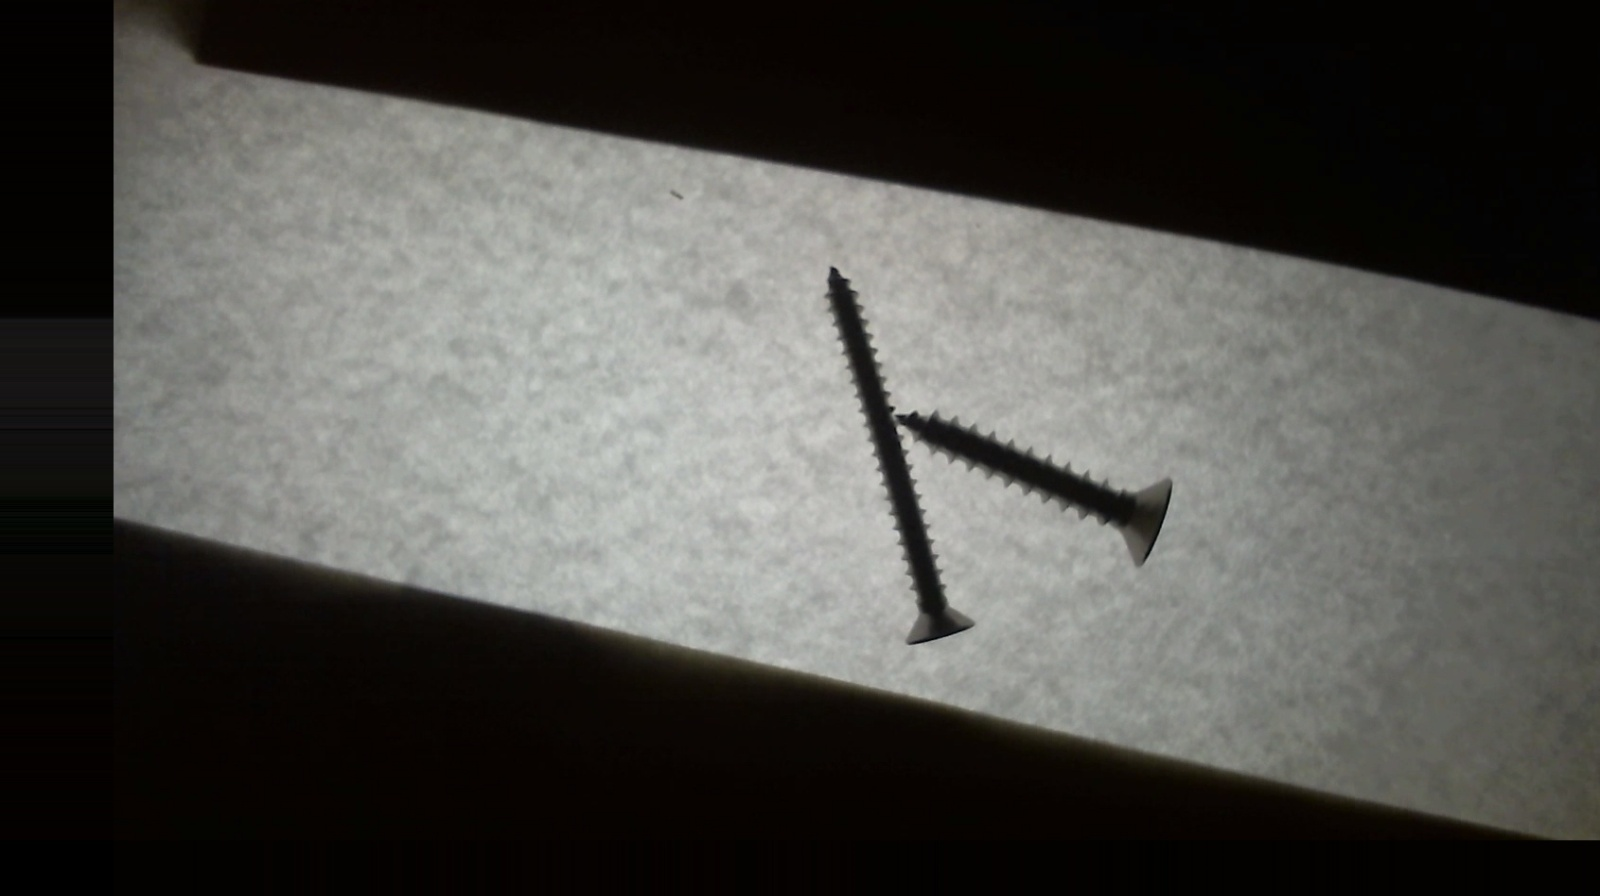S001: (885, 407, 1182, 569)
S002: (812, 255, 984, 659)
